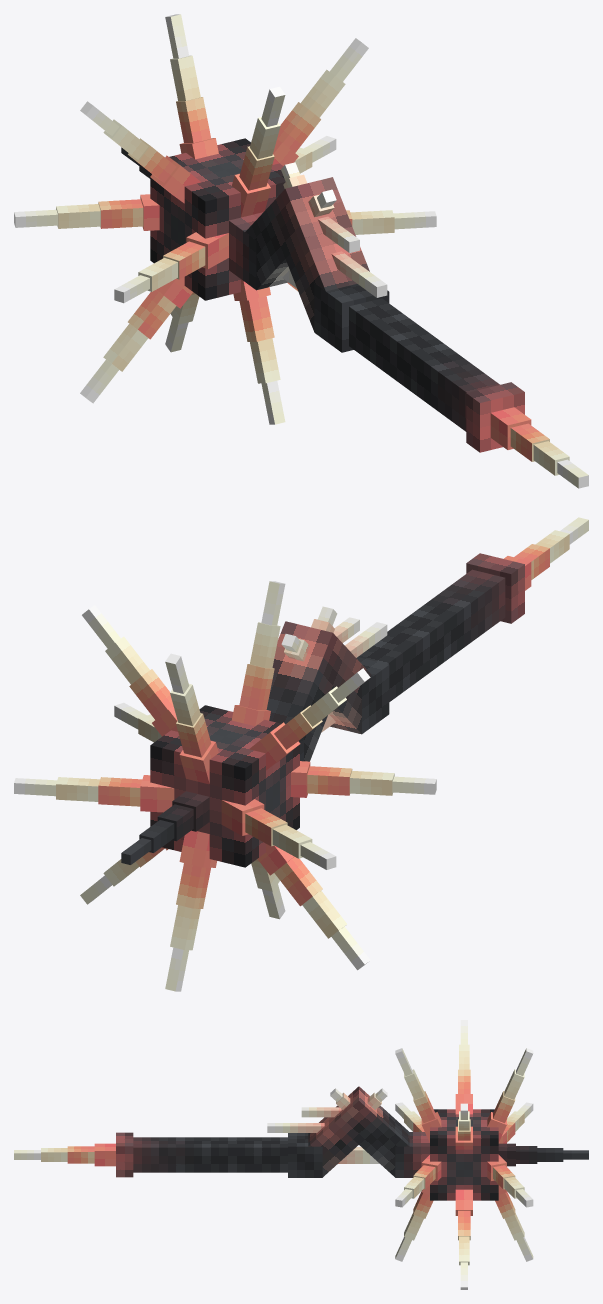
The model's file is supernova.glb.
The picture shows the model from 3 angles, top to bottom: view 1: azimuth 30°, elevation 25°; view 2: azimuth 150°, elevation 25°; view 3: azimuth 270°, elevation 25°; orthographic projection. The views are drawn at different scales.
Visible parts, largest first — view 1: main__Tool_R; view 2: main__Tool_R; view 3: main__Tool_R.
Part boxes in pixels (bbox=[...]): main__Tool_R: bbox=[14, 14, 588, 488]; main__Tool_R: bbox=[14, 517, 588, 991]; main__Tool_R: bbox=[14, 1020, 588, 1289].
Size of the model in its own units: 1.1 by 1.1 by 2.72.
1 material, 1 textured.
